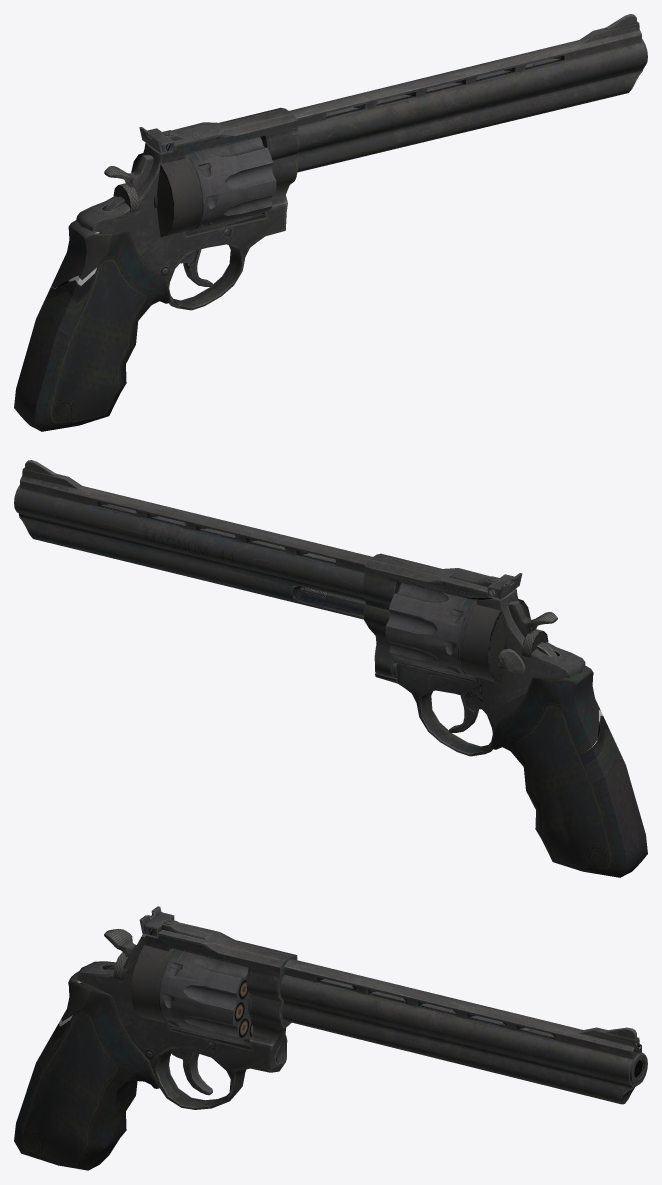
File: pistol.gltf
3 views of the same model, one above another, from view 1: azimuth 30°, elevation 25°; view 2: azimuth 150°, elevation 25°; view 3: azimuth 330°, elevation 25° (orthographic).
Parts seen in each view (by area): view 1: Pistol_Magnum_2; view 2: Pistol_Magnum_2; view 3: Pistol_Magnum_2.
Part boxes in pixels (bbox=[...]): Pistol_Magnum_2: bbox=[14, 14, 647, 431]; Pistol_Magnum_2: bbox=[14, 460, 647, 877]; Pistol_Magnum_2: bbox=[14, 906, 647, 1170].
Size of the model in its own units: 43.96 by 18.19 by 5.39.
1 material, 1 textured.
